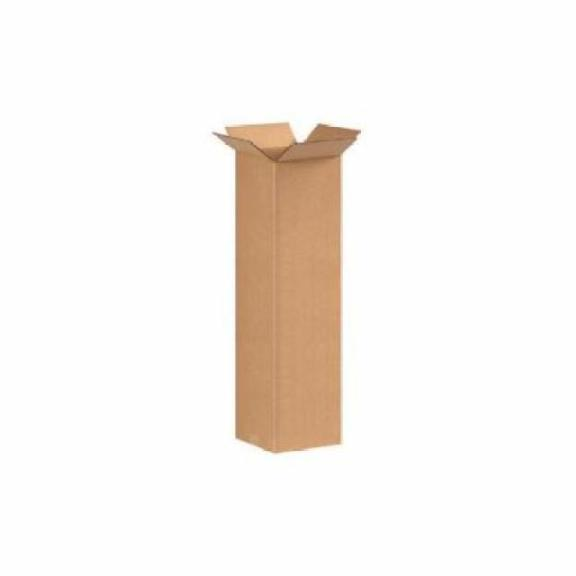Kertas: (214, 122, 359, 451)
